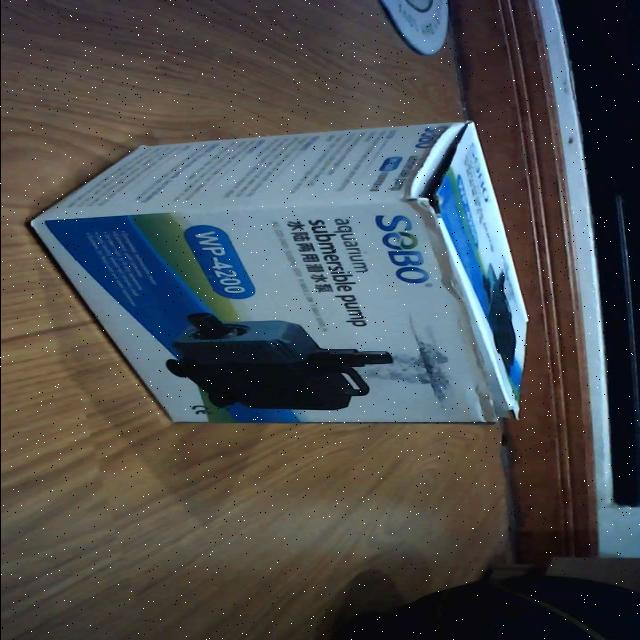SOBO_WP_4200: (16, 114, 548, 432)
